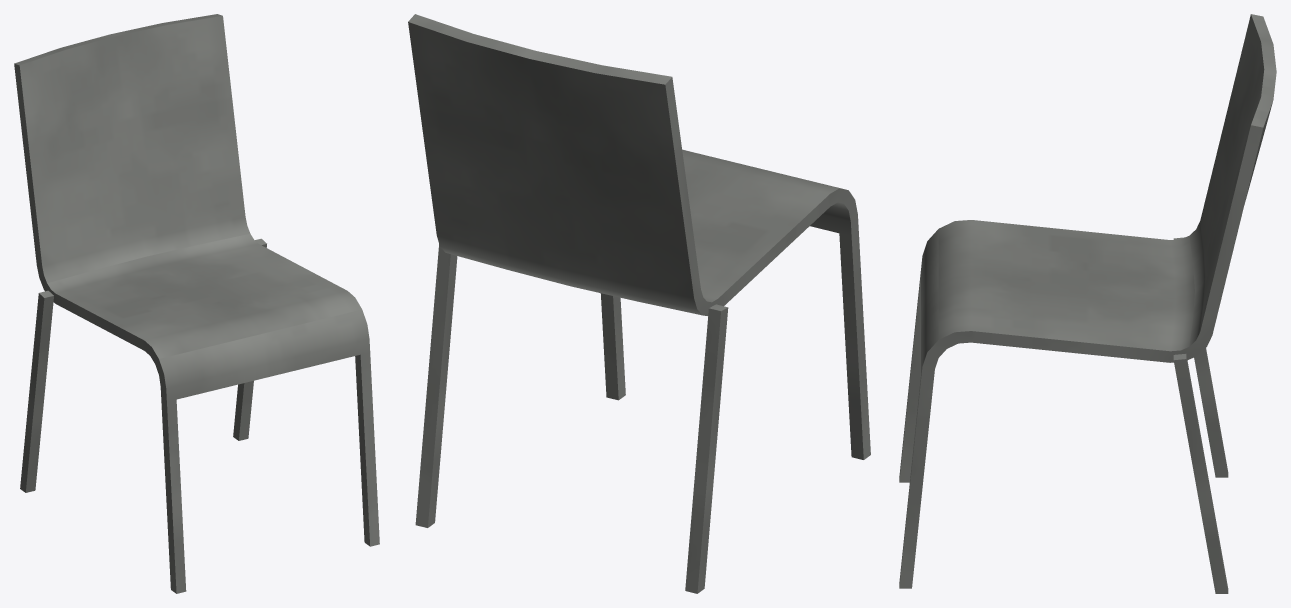
The model's file is chair_plastic.glb.
The picture shows the model from 3 angles, left to right: view 1: azimuth 30°, elevation 25°; view 2: azimuth 150°, elevation 25°; view 3: azimuth 270°, elevation 25°; orthographic projection. The views are drawn at different scales.
Parts seen in each view (by area): view 1: chair_plastic; view 2: chair_plastic; view 3: chair_plastic.
Part boxes in pixels (x1,y1,x2,y2): chair_plastic: (14,14,379,593); chair_plastic: (408,14,870,593); chair_plastic: (899,14,1276,593).
Size of the model in its own units: 0.4733 by 0.84 by 0.6198.
1 material, 1 textured.
